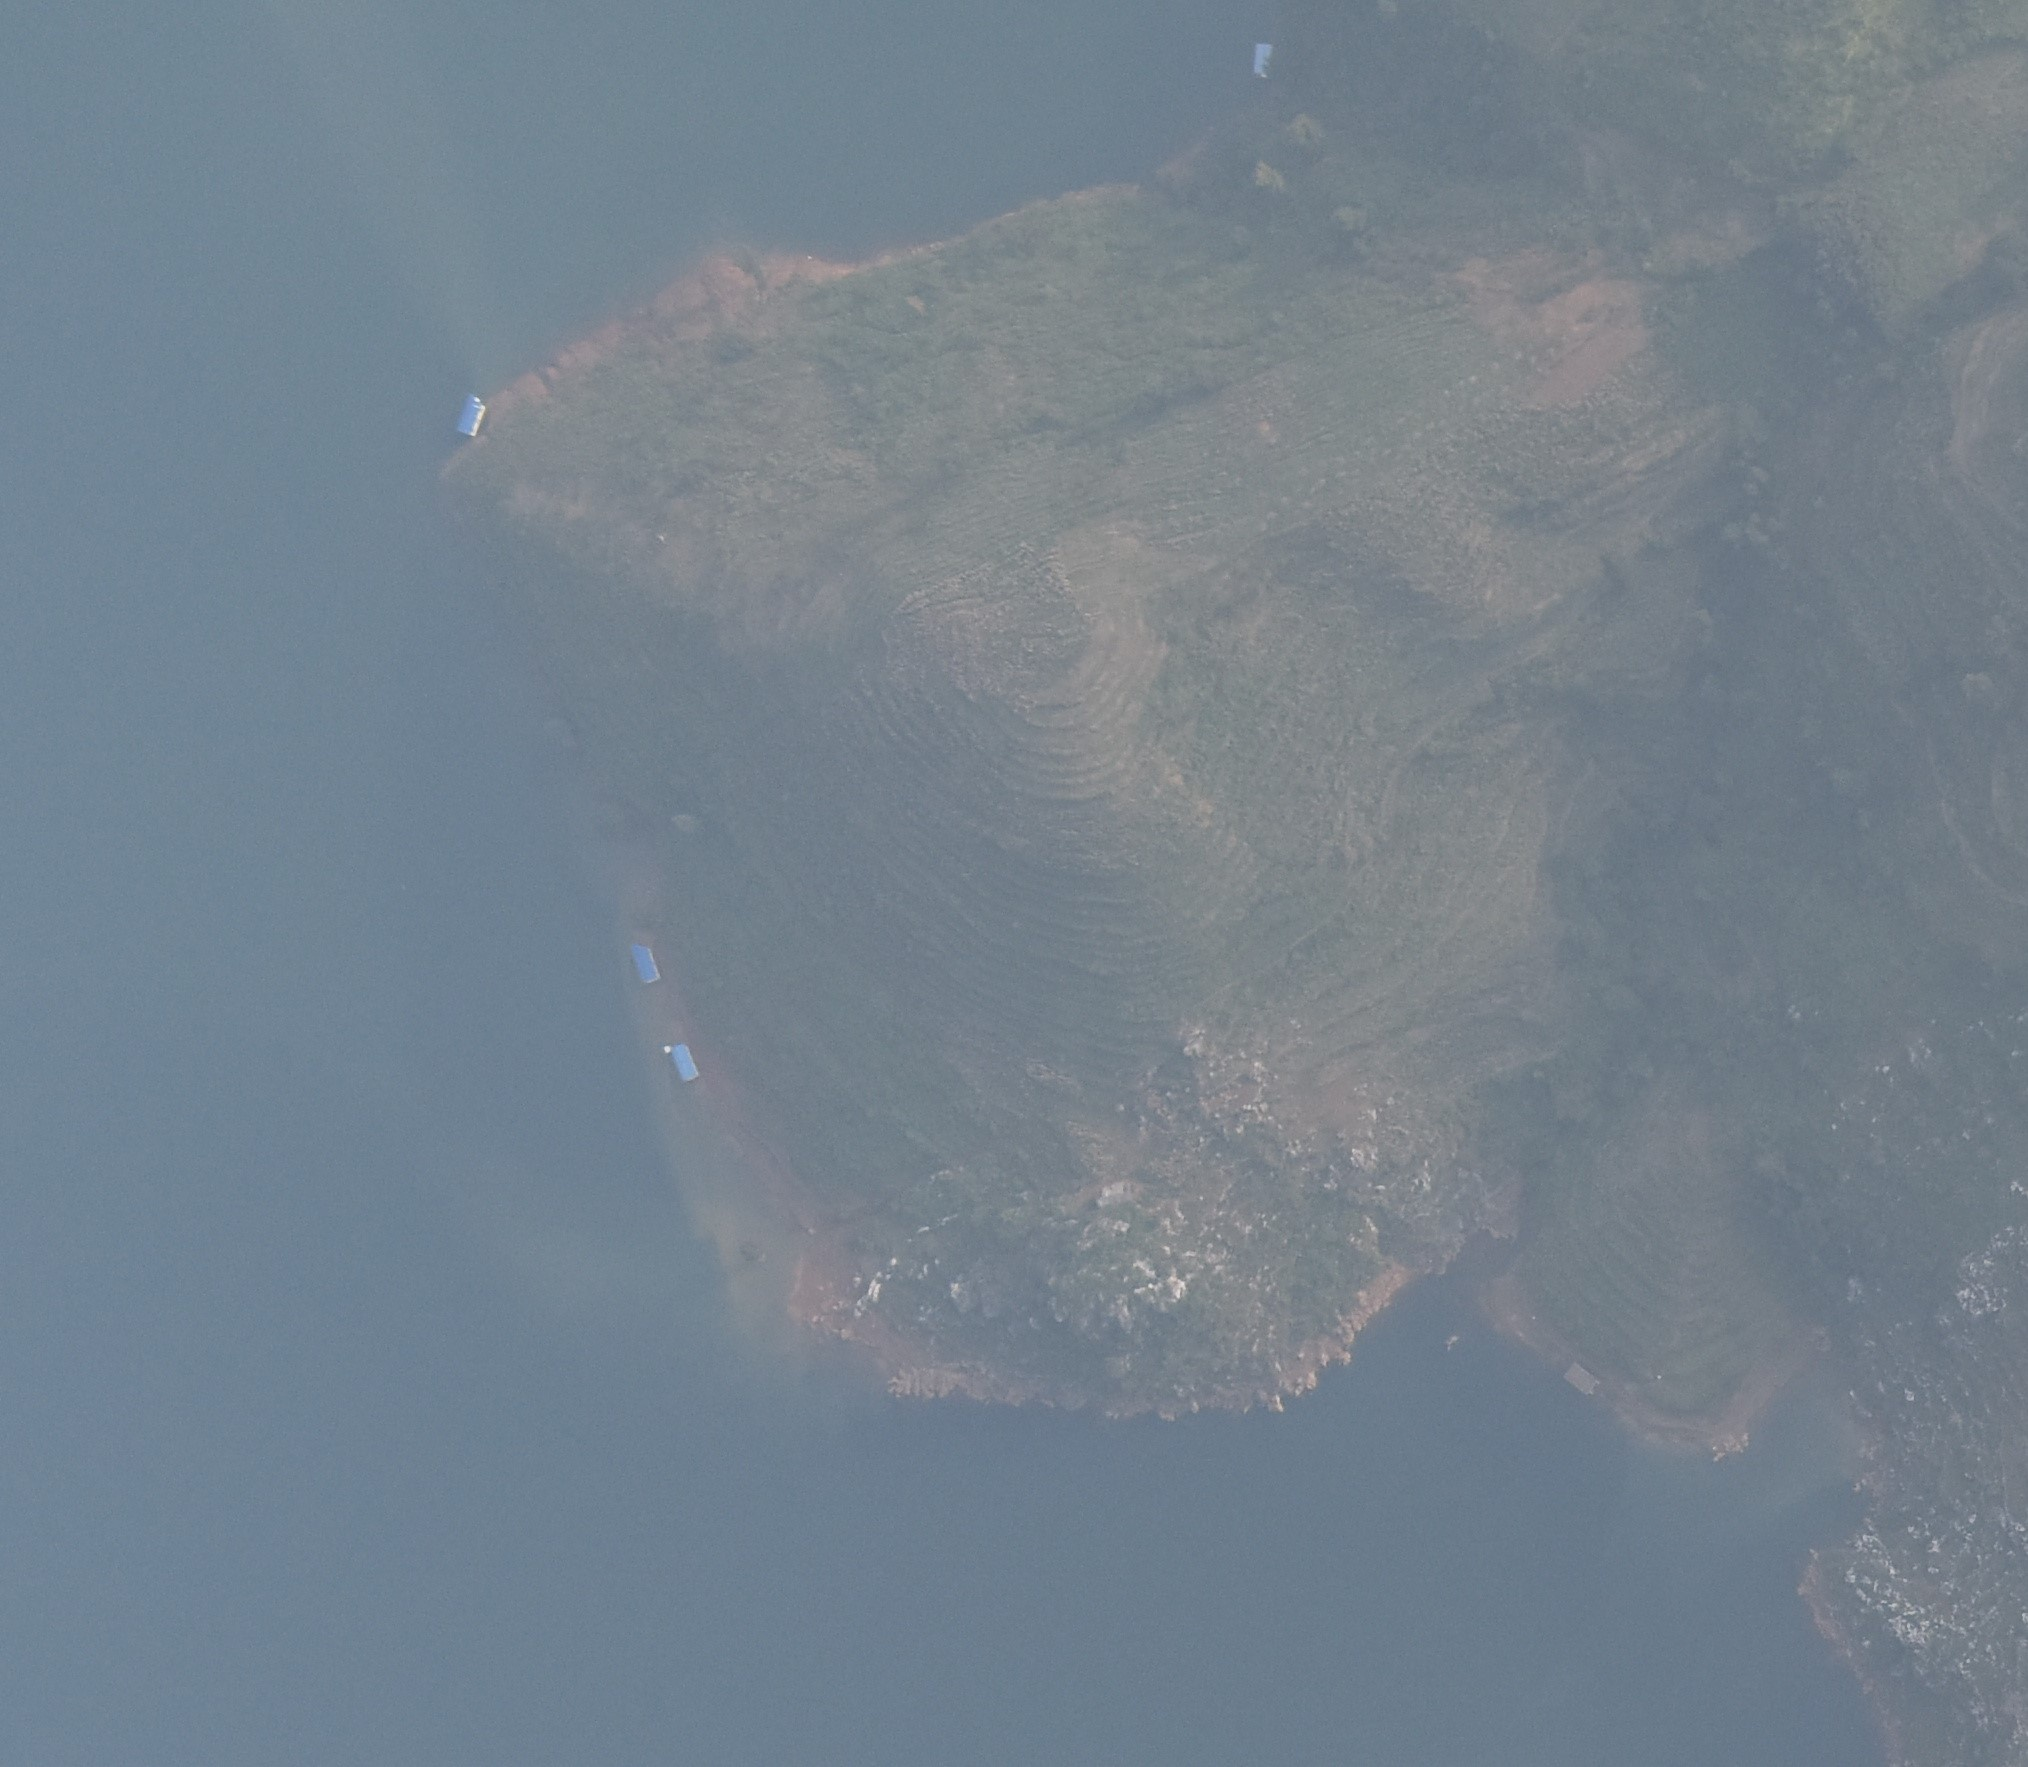prefabricated-house: (666, 1039, 704, 1091), (451, 393, 491, 442), (626, 940, 661, 989), (1249, 39, 1279, 82)
